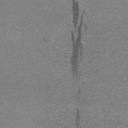red iron: (70, 0, 87, 78), (76, 109, 80, 128), (78, 88, 80, 94)
